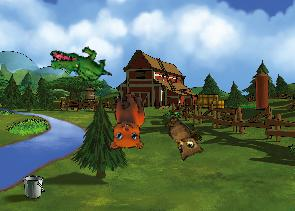bear: (99, 89, 151, 154)
crocodile: (48, 42, 112, 86)
owl: (154, 114, 207, 166)
